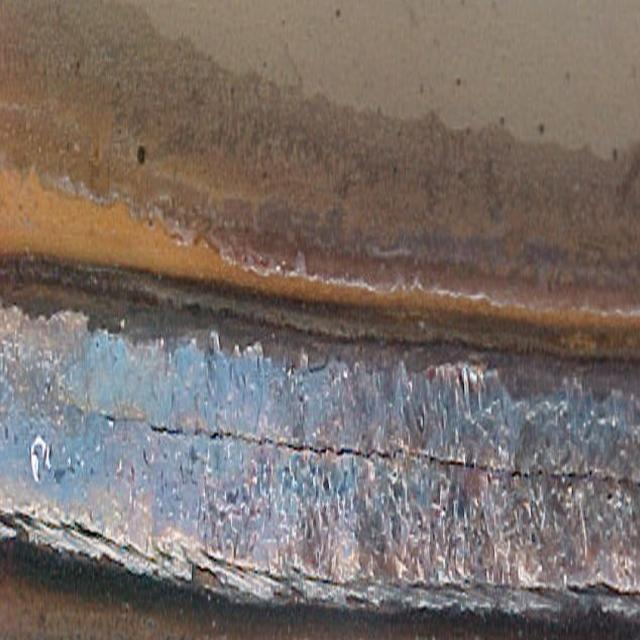Dry Waste: (8, 75, 584, 588)
